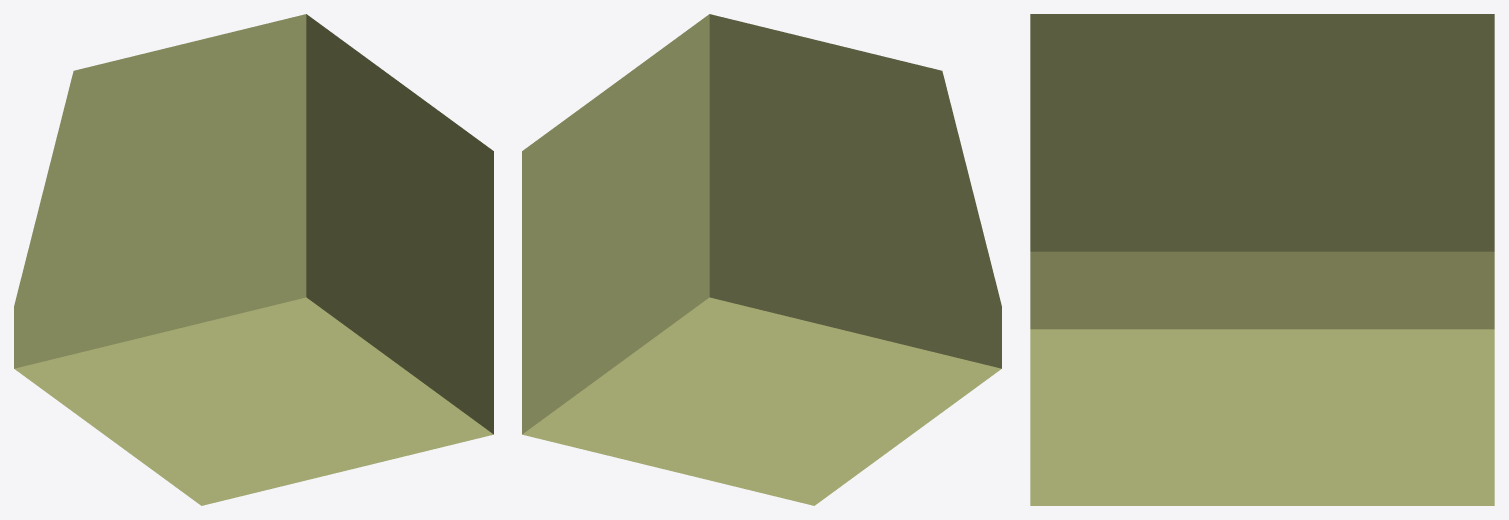
The picture shows the model from 3 angles, left to right: view 1: azimuth 30°, elevation 25°; view 2: azimuth 150°, elevation 25°; view 3: azimuth 270°, elevation 25°; orthographic projection. The views are drawn at different scales.
Visible parts, largest first — view 1: 0_0_1_2_0_0_1_0_2_3; view 2: 0_0_1_2_0_0_1_0_2_3; view 3: 0_0_1_2_0_0_1_0_2_3.
Boxes of the visible parts, bbox=[...] form: 0_0_1_2_0_0_1_0_2_3: bbox=[14, 14, 493, 505]; 0_0_1_2_0_0_1_0_2_3: bbox=[522, 14, 1001, 505]; 0_0_1_2_0_0_1_0_2_3: bbox=[1030, 14, 1494, 505].
Size of the model in its own units: 8.1 by 7.51 by 9.
